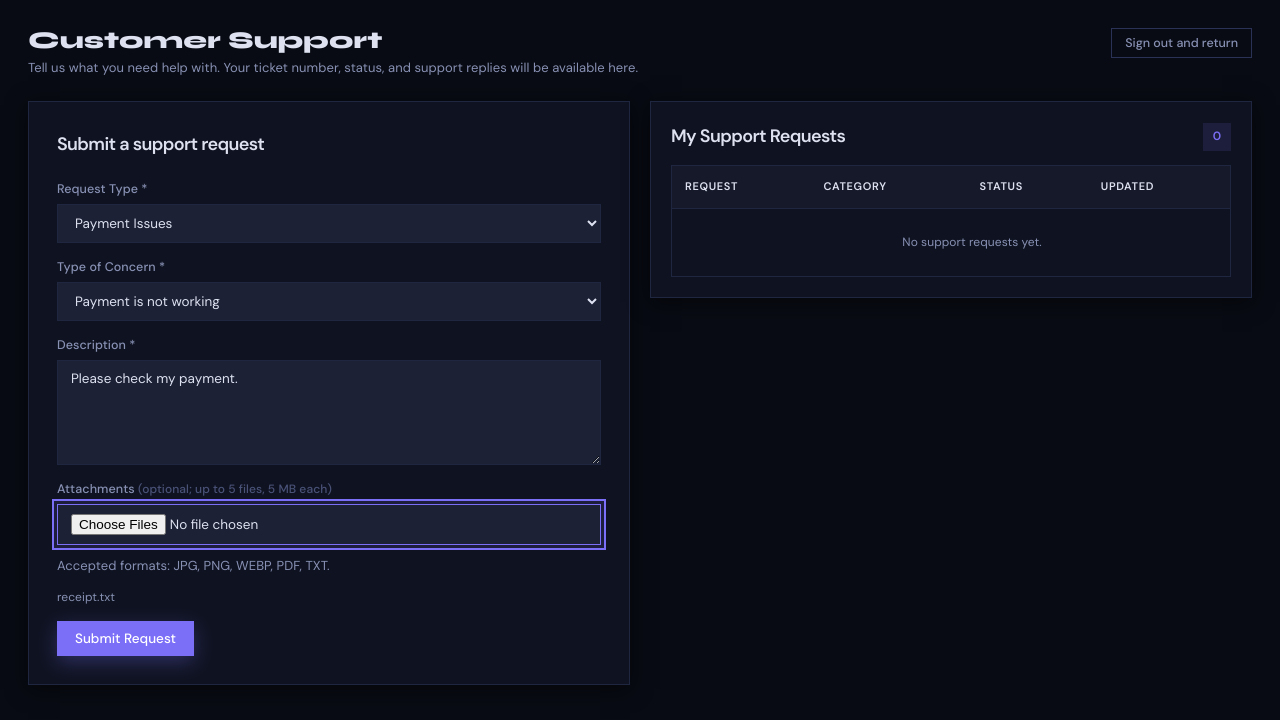
Test: React Customer Support › uploads attachments, posts the unchanged backend payload, refreshes history, and resets a successful form
This screenshot has width=1280, height=720.
Earlier steps of the test are not shown.
What coordinates should you click on to do the following:
click the button "Submit Request"
I would click on:
 (126, 639)
Its box is [57,621,194,656].
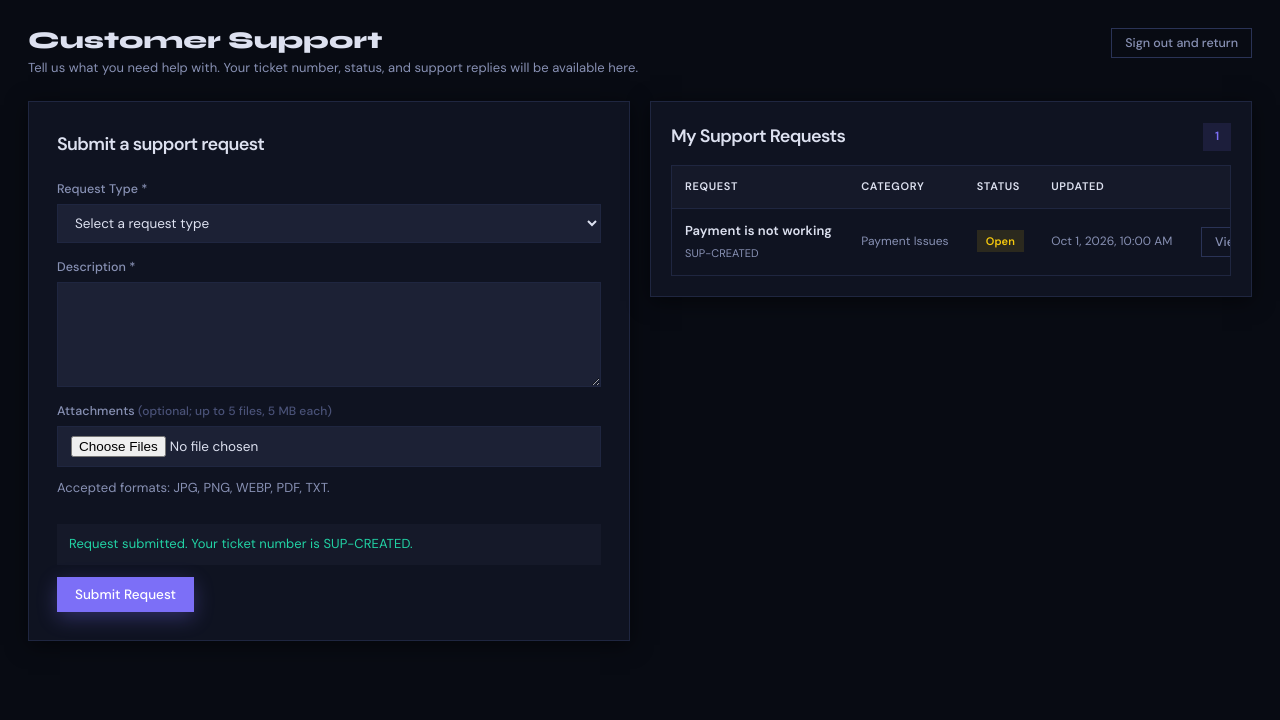
Check: the text "Request submitted. Your ticket number is SUP-CREATED." is shown, box [57,524,601,565]
Check: the text "SUP-CREATED" is shown, box [685,246,759,260]
Check: the text box labelled "Description *" is empty, box [57,282,601,387]
